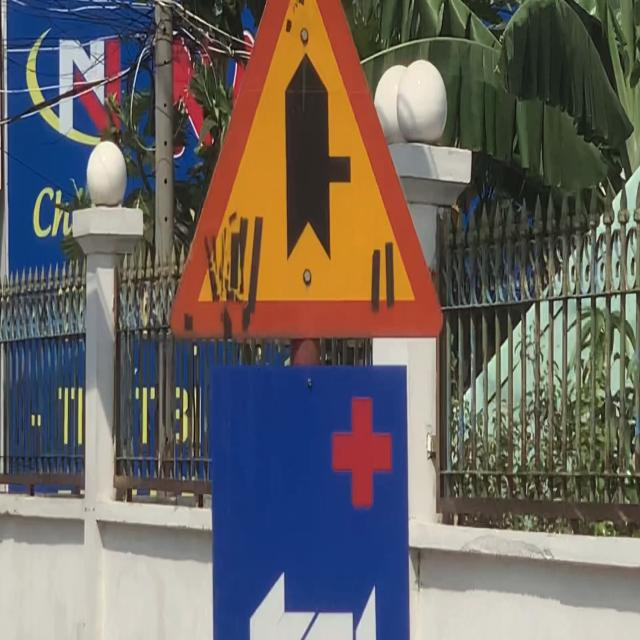Giao voi duong khong uu tien: (157, 0, 459, 361)
